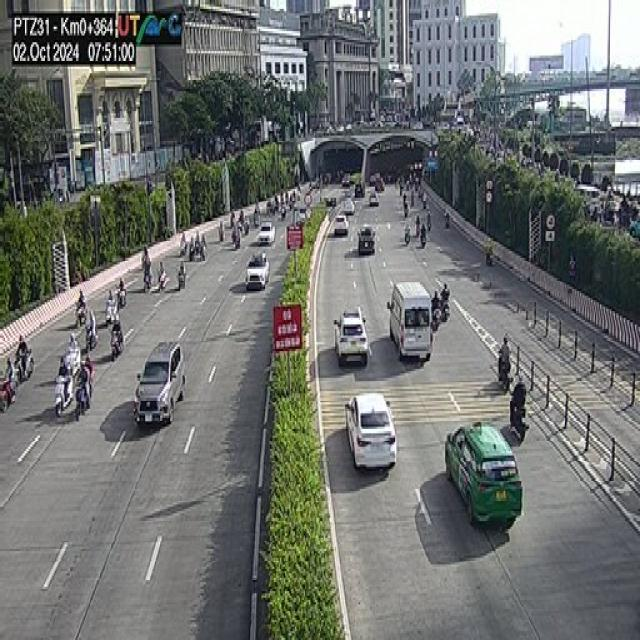car: (443, 420, 522, 527), (133, 338, 185, 424), (343, 391, 398, 471), (387, 278, 432, 362), (332, 304, 368, 366), (245, 251, 269, 289)
